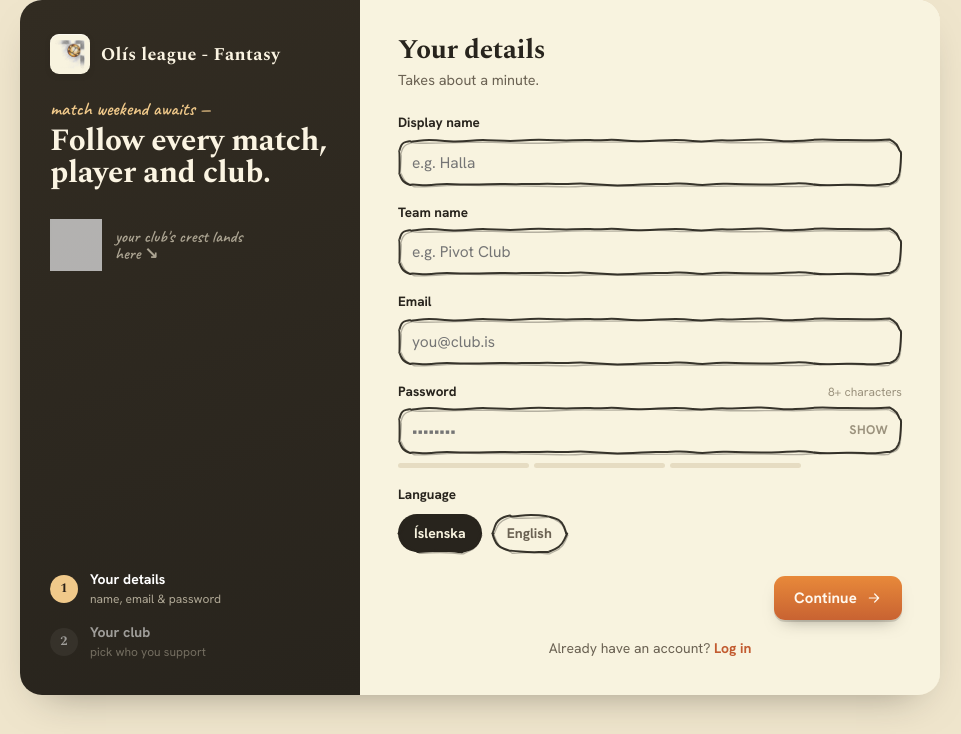
Test case: RegisterPage (two-step) › blocks Continue until the details are valid
Click the button "Continue": (838, 598) [774,576,902,620]
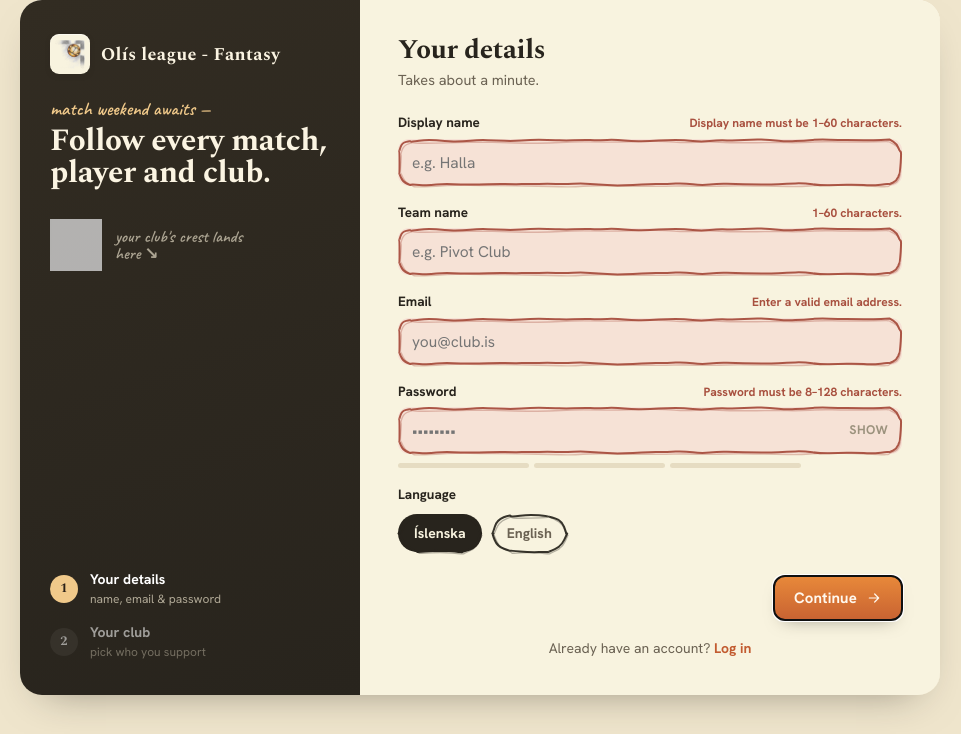
Expected: the heading "Your details" is shown, [398,29,545,71]
Expected: the text "Enter a valid email address." is shown, [752,293,902,311]
